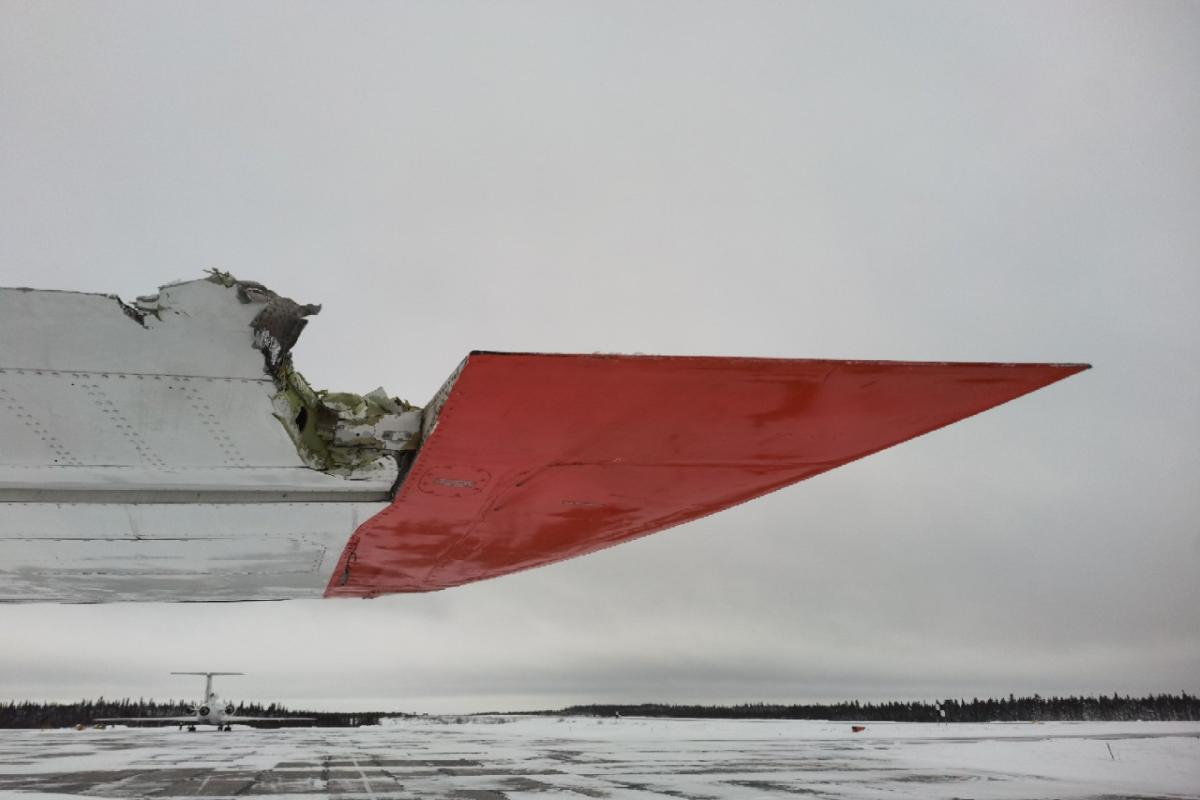Fuselage_damage: (206, 270, 419, 479), (277, 367, 421, 469), (3, 275, 216, 331), (240, 283, 321, 375), (108, 295, 147, 327), (134, 293, 159, 314)
